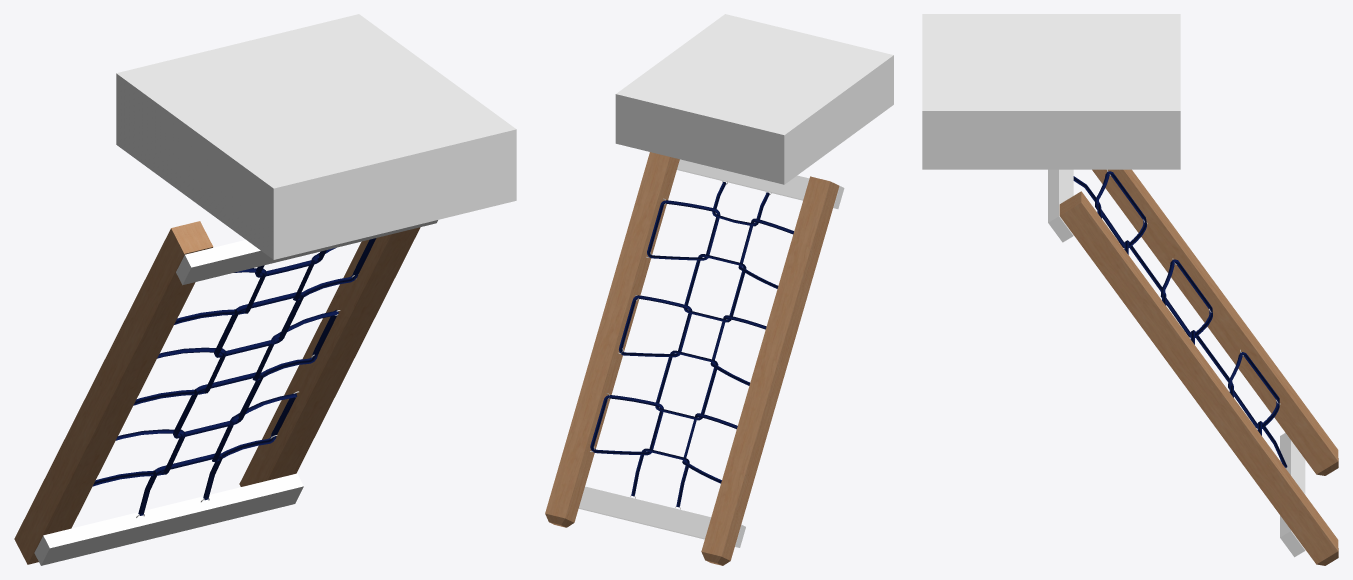
3 renders of one model, left to right at view 1: azimuth 30°, elevation 25°; view 2: azimuth 150°, elevation 25°; view 3: azimuth 270°, elevation 25°, orthographic. The views are drawn at different scales.
Parts seen in each view (by area): view 1: joint,0,6, Cube151, Cube151_1, Cube151_3; view 2: joint,0,6, Cube151, Cube151_3, Cube151_1; view 3: joint,0,6, Cube151, Cube151_3, Cube151_1.
Part boxes in pixels (left/top/right/bottom): joint,0,6: left=116, top=14, right=516, bottom=259; Cube151: left=14, top=221, right=420, bottom=564; Cube151_1: left=34, top=220, right=437, bottom=565; Cube151_3: left=92, top=238, right=376, bottom=515; joint,0,6: left=615, top=14, right=893, bottom=184; Cube151: left=545, top=152, right=839, bottom=565; Cube151_3: left=590, top=181, right=793, bottom=507; Cube151_1: left=578, top=159, right=844, bottom=547; joint,0,6: left=922, top=14, right=1180, bottom=169; Cube151: left=1059, top=169, right=1338, bottom=565; Cube151_3: left=1073, top=171, right=1287, bottom=467; Cube151_1: left=1048, top=169, right=1305, bottom=557.
Size of the model in its own units: 0.9308 by 1.95 by 1.61.
5 materials, 2 textured.
